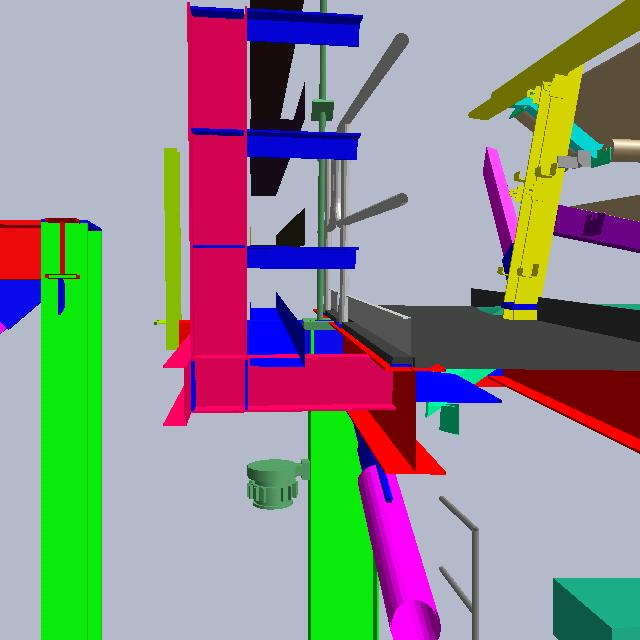Poste: (317, 1, 325, 330)
Soporte: (146, 130, 198, 359)
